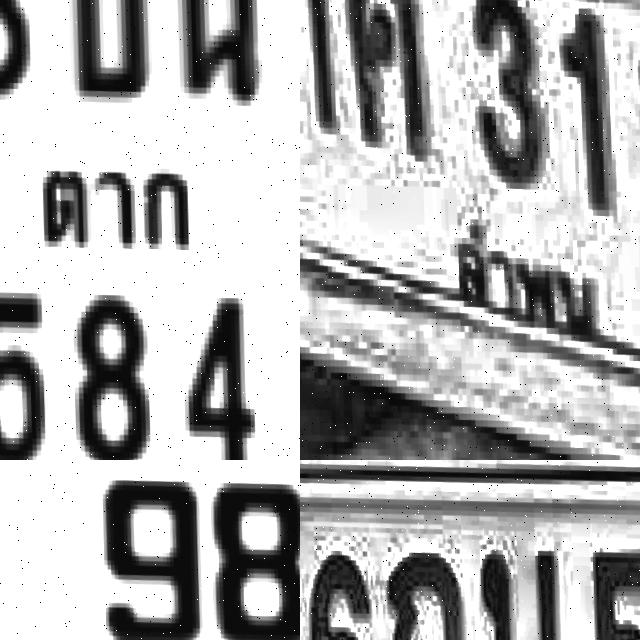license-plate: (300, 0, 640, 460), (0, 0, 300, 460), (300, 460, 640, 640), (0, 460, 300, 640)
